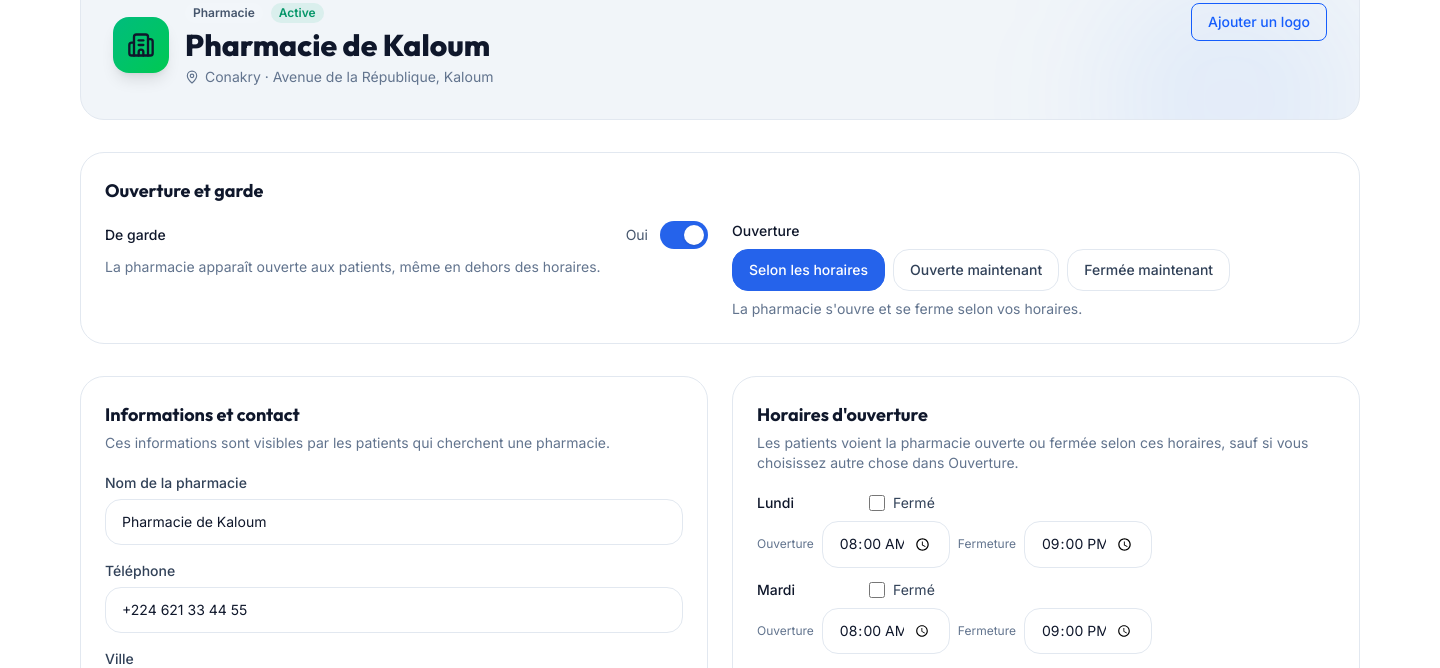
Test case: Ma pharmacie › affiche un message humain quand le serveur refuse la saisie
Replace the text in the field labelled "Téléphone" with "+224 621 00 00 00". click: (394, 610)
box: [105, 587, 683, 633]
(page scrolled)
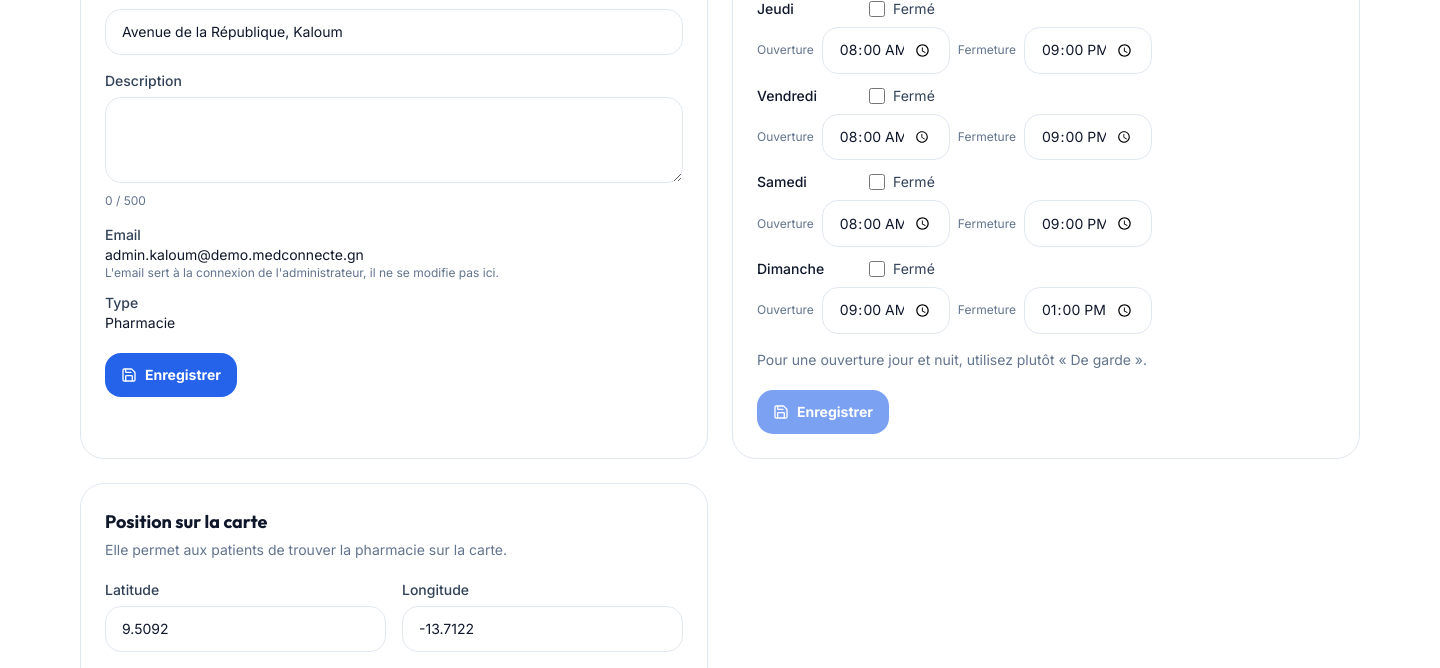
Click the button "Enregistrer" below "Type". click: click(171, 375)
box: [105, 353, 237, 397]
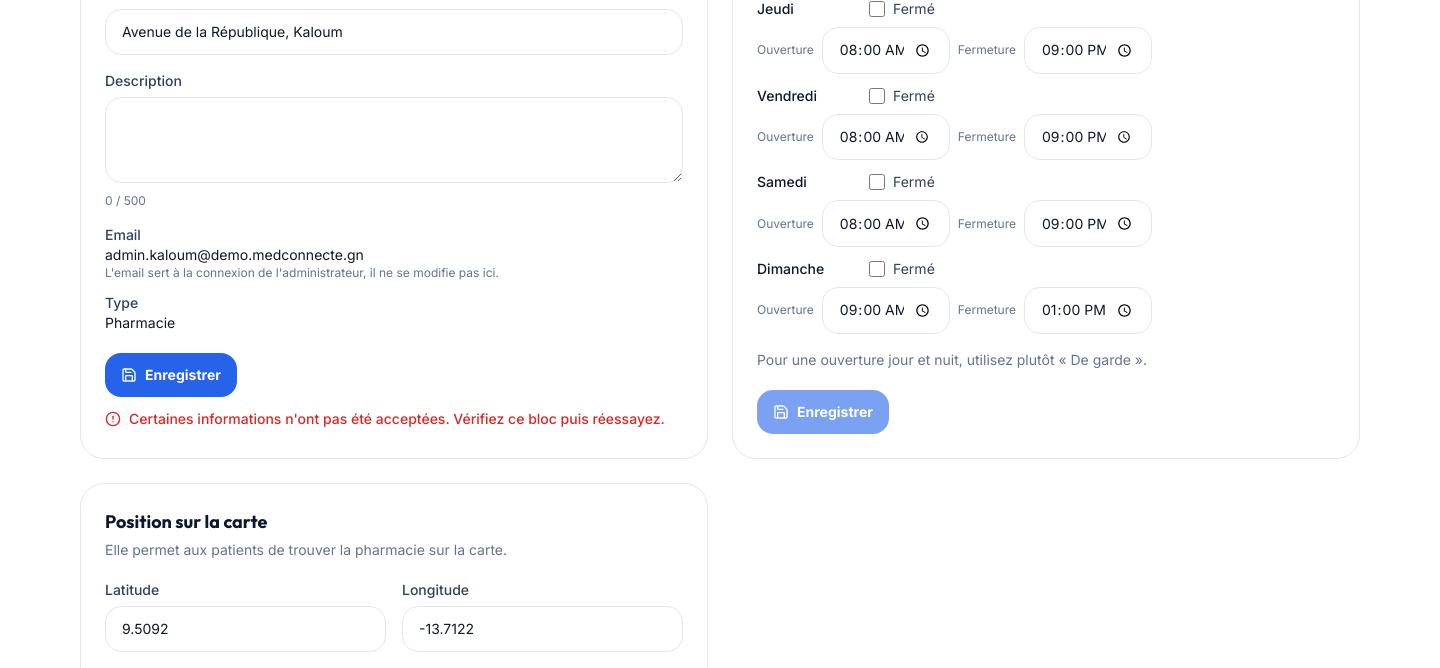
Check: the message reads "Certaines informations n'ont pas été acceptées. Vérifiez ce bloc puis réessayez.", box [129, 410, 665, 427]
